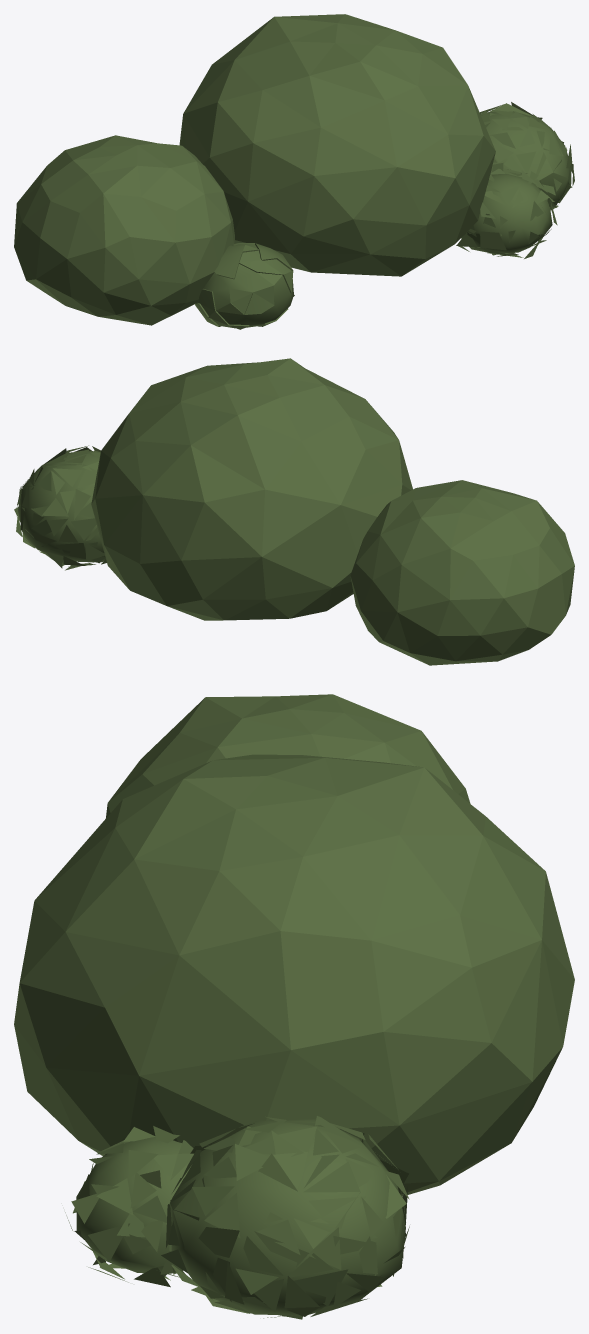
File: bush.glb
3 renders of one model, top to bottom at view 1: azimuth 30°, elevation 25°; view 2: azimuth 150°, elevation 25°; view 3: azimuth 270°, elevation 25°, orthographic. The views are drawn at different scales.
Parts seen in each view (by area): view 1: bush_middle, bush_1, bush_3, bush_4, bush_2; view 2: bush_middle, bush_1, bush_2; view 3: bush_middle, bush_2, bush_1, bush_4.
Boxes of the visible parts, bbox=[...] form: bush_middle: bbox=[179, 14, 495, 276]; bush_1: bbox=[14, 135, 234, 325]; bush_3: bbox=[195, 243, 294, 329]; bush_4: bbox=[456, 168, 557, 258]; bush_2: bbox=[479, 102, 574, 210]; bush_middle: bbox=[91, 358, 412, 620]; bush_1: bbox=[350, 480, 574, 665]; bush_2: bbox=[14, 445, 106, 570]; bush_middle: bbox=[14, 754, 574, 1196]; bush_2: bbox=[161, 1113, 409, 1319]; bush_1: bbox=[106, 694, 470, 817]; bush_4: bbox=[65, 1126, 193, 1287].
Bounding box in the file's own units: 8.37 × 3.29 × 4.38.
